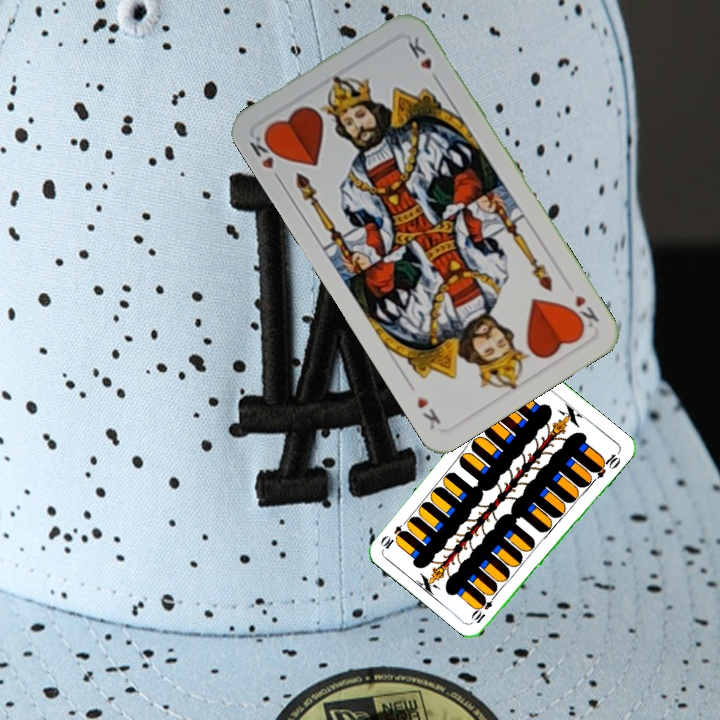E10: (469, 590, 499, 626)
HK: (245, 128, 285, 186), (565, 290, 602, 333)
